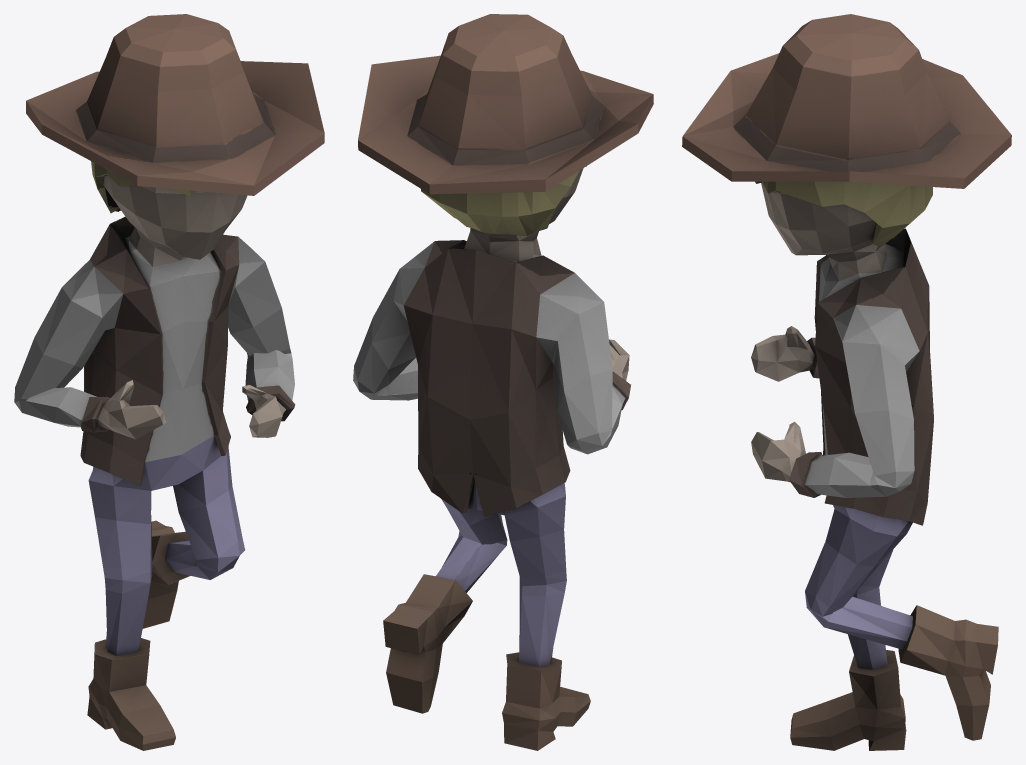
The model's file is char_15.obj.
3 renders of one model, left to right at view 1: azimuth 30°, elevation 25°; view 2: azimuth 150°, elevation 25°; view 3: azimuth 270°, elevation 25°, orthographic. The views are drawn at different scales.
Visible parts, largest first — view 1: Cube; view 2: Cube; view 3: Cube.
Boxes of the visible parts, box(x1,y1,x2,y2) form: Cube: box(14, 14, 324, 750); Cube: box(353, 14, 653, 750); Cube: box(682, 14, 1011, 750).
Size of the model in its own units: 3.49 by 8.64 by 3.53.
1 material, 1 textured.
